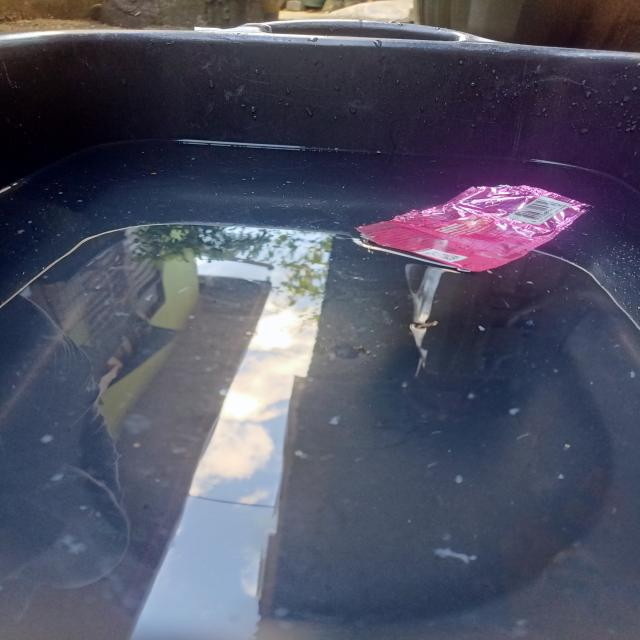Plastic Wrapper: (357, 185, 588, 272)
